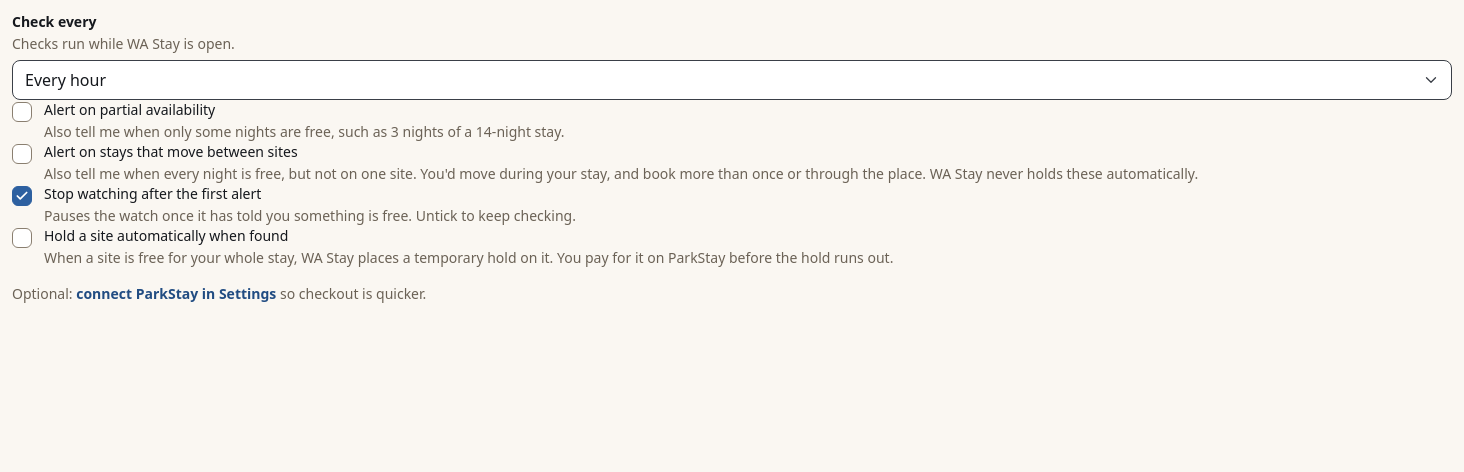
AlertsStep › asks for the provider’s hold fields once auto-hold is ticked
The image size is (1464, 472).
Expected: the field labelled "Postcode" is not shown
Click the checkbox labelled "Hold a site automatically when found" at {"x": 22, "y": 238}, box [12,228,32,248]
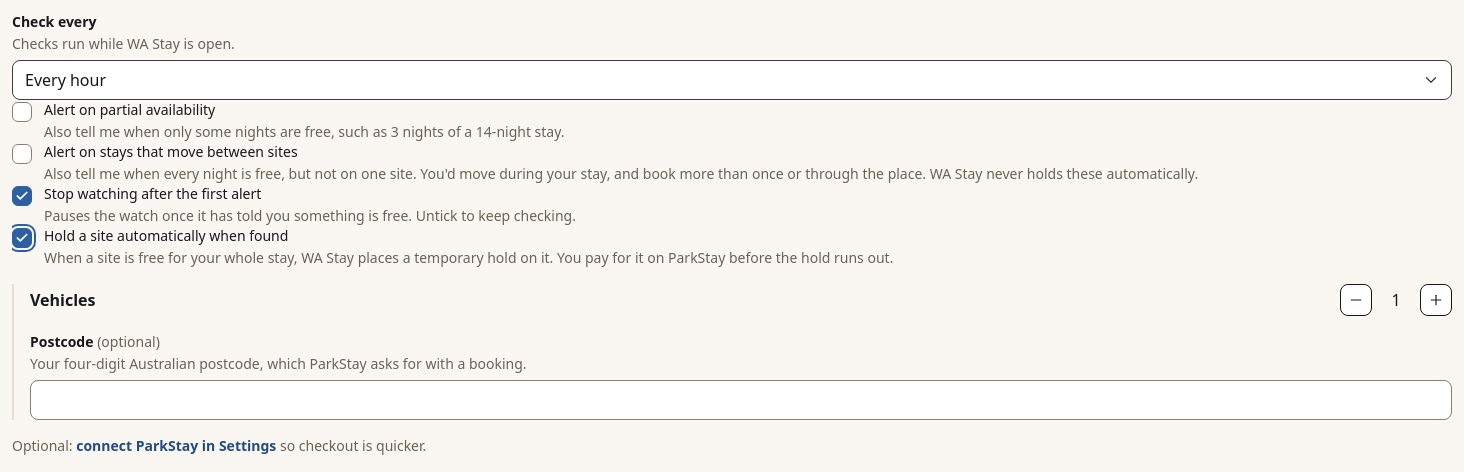
Now the element "Vehicles" is shown, box [30,284,1452,316]
Now the field labelled "Postcode (optional)" is shown, box [30,380,1452,420]
